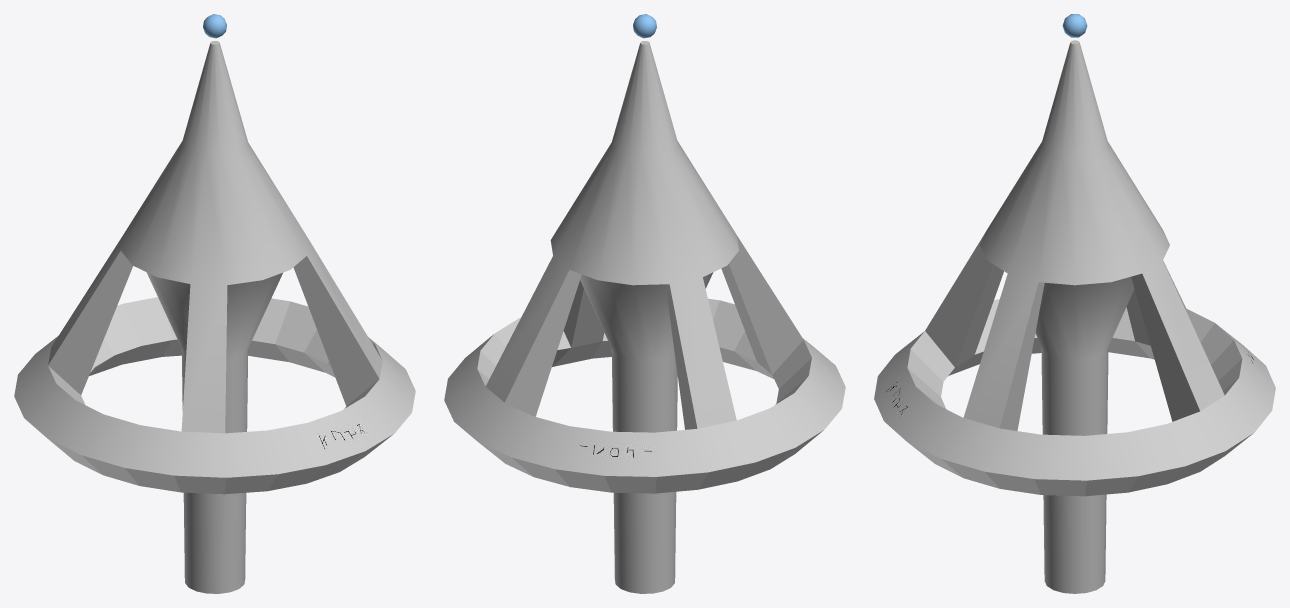
Rendered from Tower.glb.
3 renders of one model, left to right at view 1: azimuth 30°, elevation 25°; view 2: azimuth 150°, elevation 25°; view 3: azimuth 270°, elevation 25°, orthographic.
Parts seen in each view (by area): view 1: Tower; view 2: Tower; view 3: Tower.
Boxes of the visible parts, box(x1,y1,x2,y2) form: Tower: box(14, 14, 415, 593); Tower: box(444, 14, 845, 593); Tower: box(874, 14, 1275, 593).
Size of the model in its own units: 11.98 by 18.63 by 11.98.
1 material, 1 textured.
